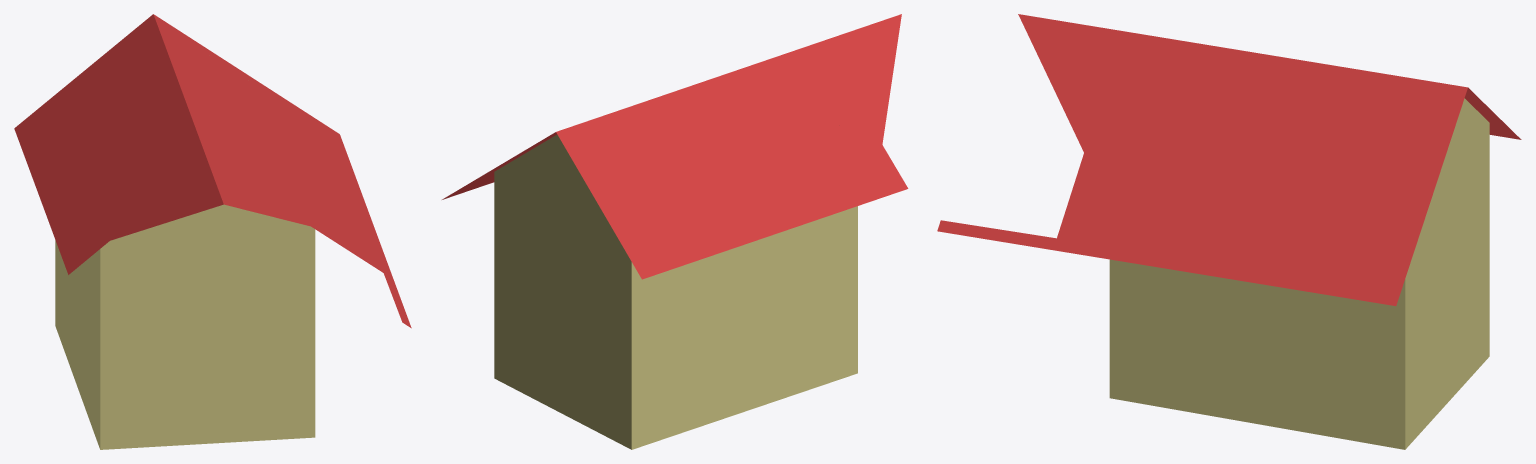
3 views of the same model, side by side, from view 1: azimuth 30°, elevation 25°; view 2: azimuth 150°, elevation 25°; view 3: azimuth 270°, elevation 25° (orthographic). The views are drawn at different scales.
Size of the model in its own units: 16.74 by 21.32 by 12.67.
